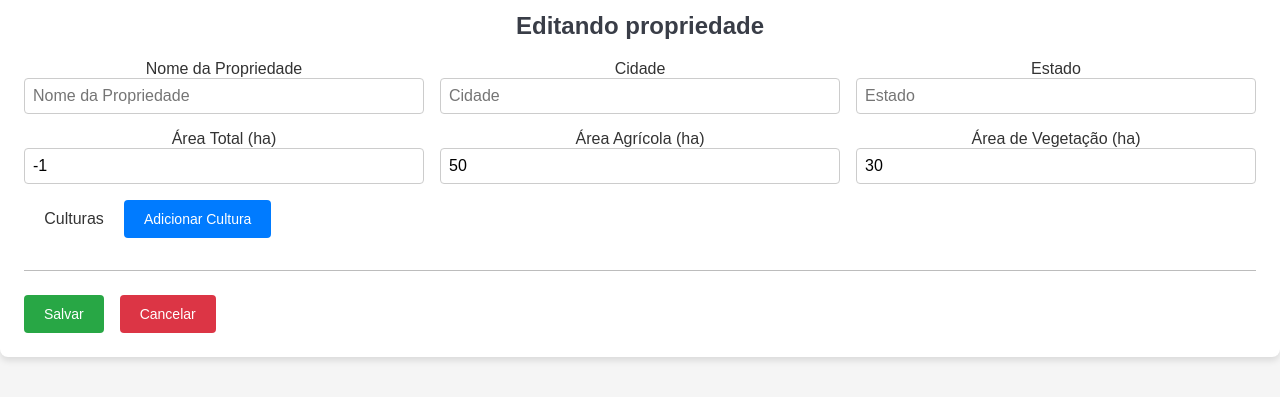
Test: Formulário de Edição de Propriedade › Formulário de Edição de Propriedade > deve exibir um erro se a área total for menor ou igual a zero
The image size is (1280, 397).
Replace the text in the number field labelled "Área Total (ha)" with "0" at [224, 166], box top-left (24, 148), bottom-right (424, 184)
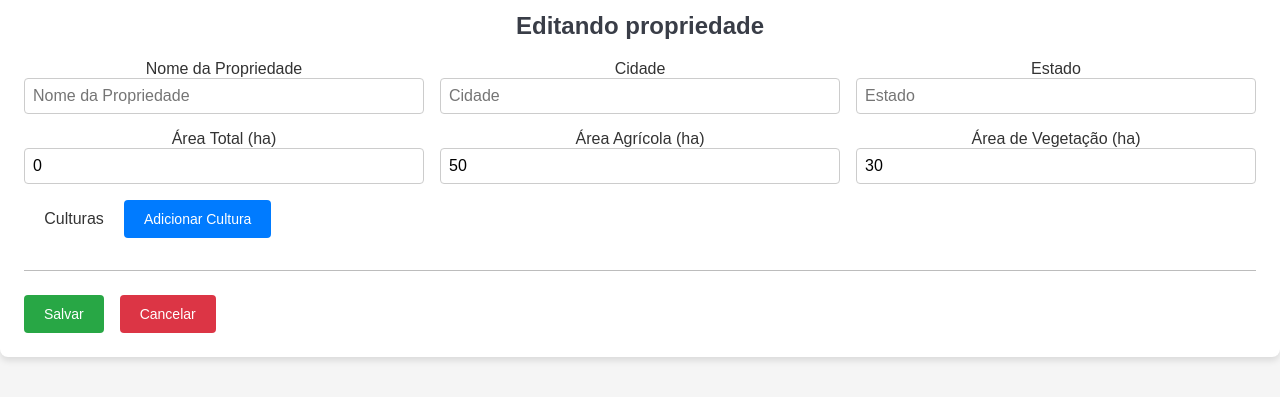
Clear the number field labelled "Área Agrícola (ha)" at [640, 166], box top-left (440, 148), bottom-right (840, 184)
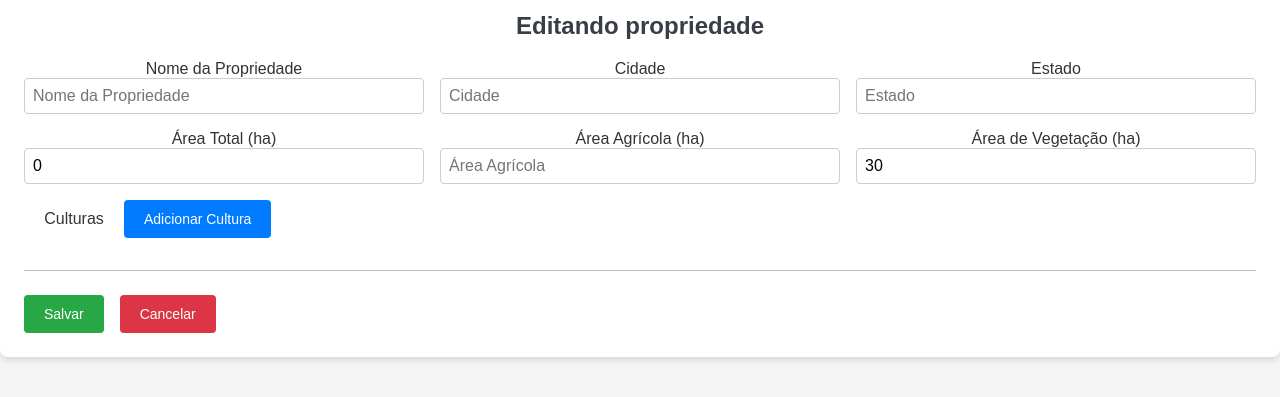
Clear the number field labelled "Área de Vegetação (ha)" at [1056, 166], box top-left (856, 148), bottom-right (1256, 184)
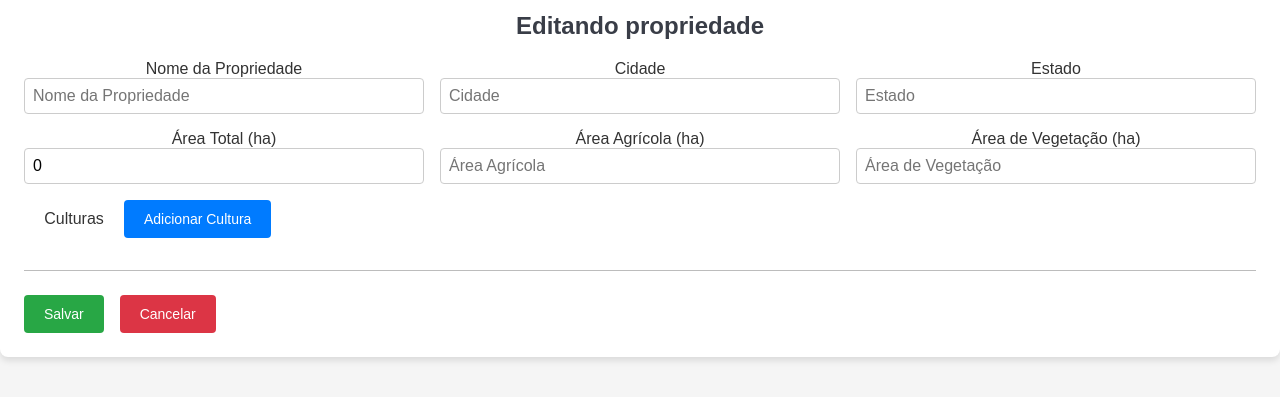
Leave the number field labelled "Área Total (ha)", box top-left (24, 148), bottom-right (424, 184)
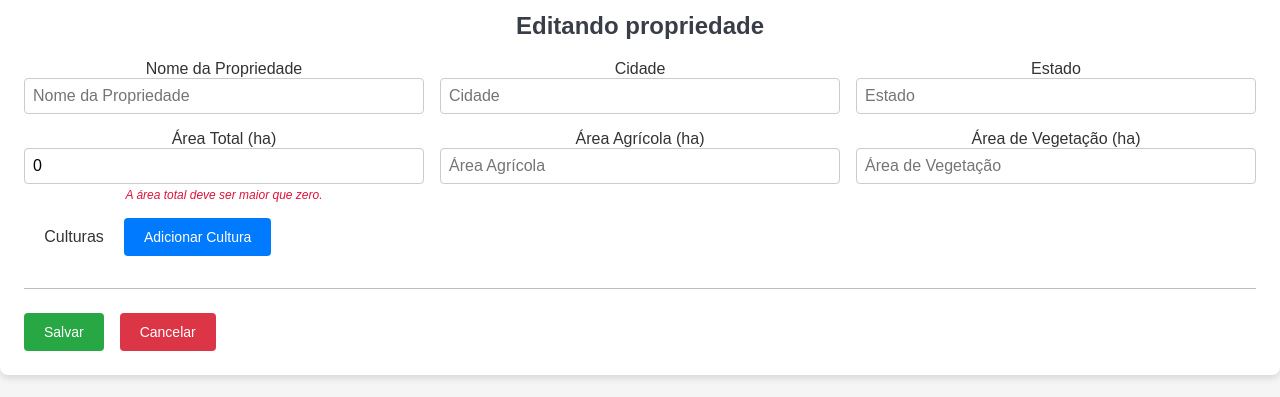
Check: the text "A área total deve ser maior que zero." is shown, box top-left (126, 188), bottom-right (322, 202)
